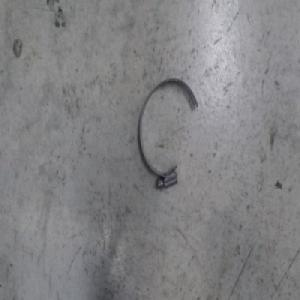AdjustableClamp: (138, 76, 199, 191)
